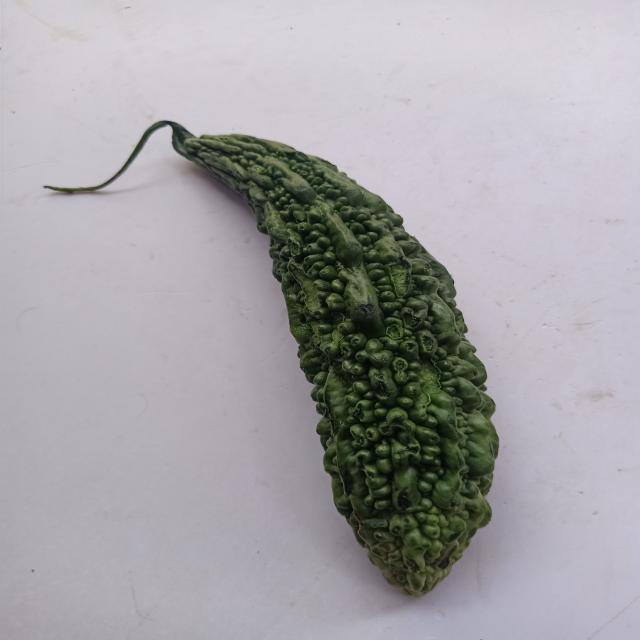Bitter Gourd: (127, 98, 539, 608)
